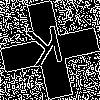K: (25, 25, 68, 77)
